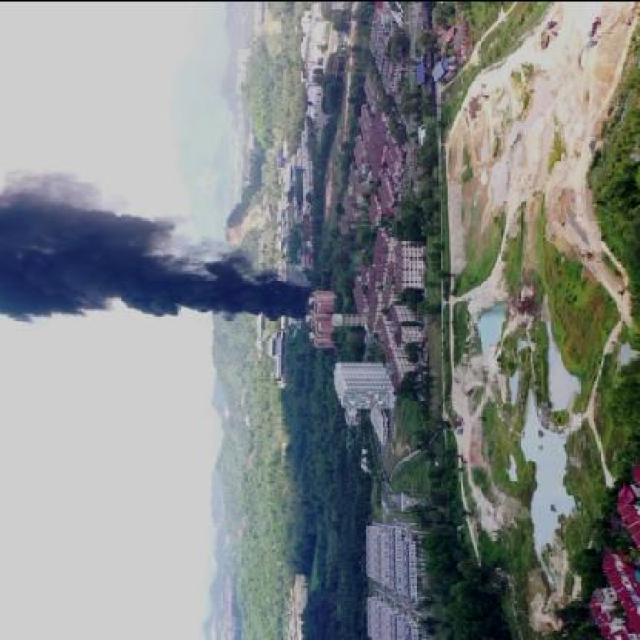Smoke: (0, 157, 315, 324)
